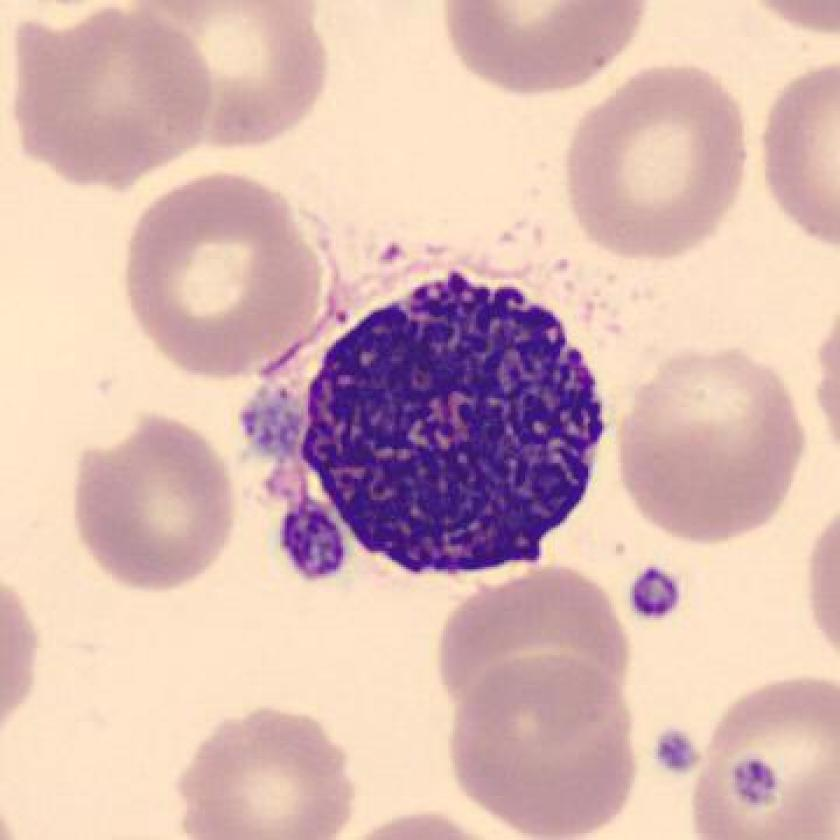basophil: (288, 253, 617, 580)
